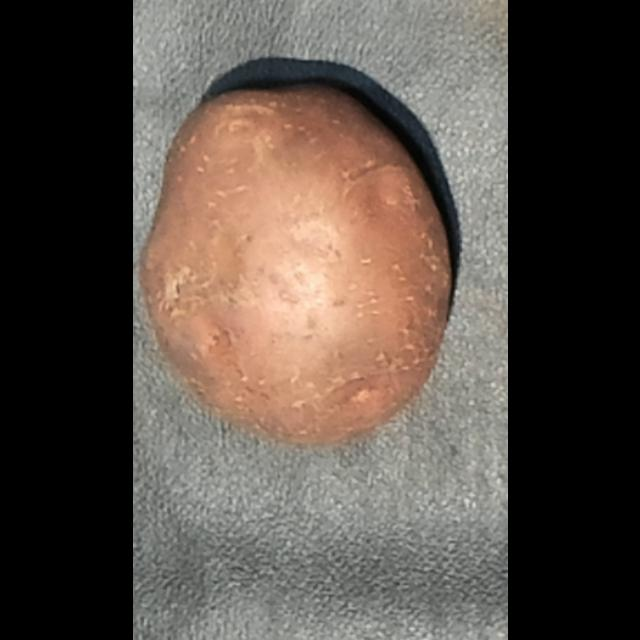Diseased-fungal potato: (132, 1, 466, 456)
